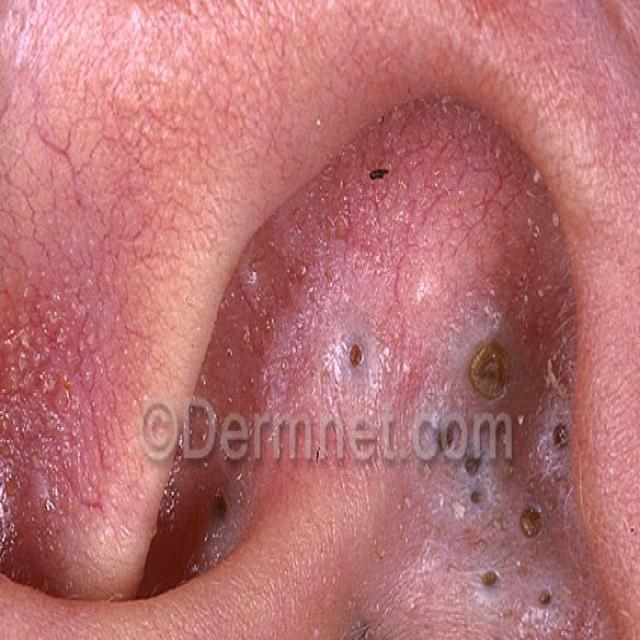Acne: (465, 315, 517, 417), (519, 484, 550, 563), (461, 441, 486, 510), (551, 401, 574, 466), (340, 335, 371, 378), (478, 552, 504, 603), (533, 570, 557, 624), (366, 155, 399, 194), (0, 449, 11, 562), (208, 483, 233, 524)
